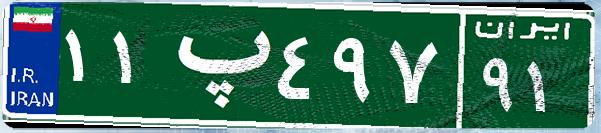1: (57, 26, 110, 107), (110, 28, 158, 105), (525, 38, 570, 115)
4: (273, 28, 330, 110)
7: (385, 28, 445, 110)
9: (330, 28, 385, 110), (475, 38, 525, 113)
پ: (158, 15, 273, 115)
